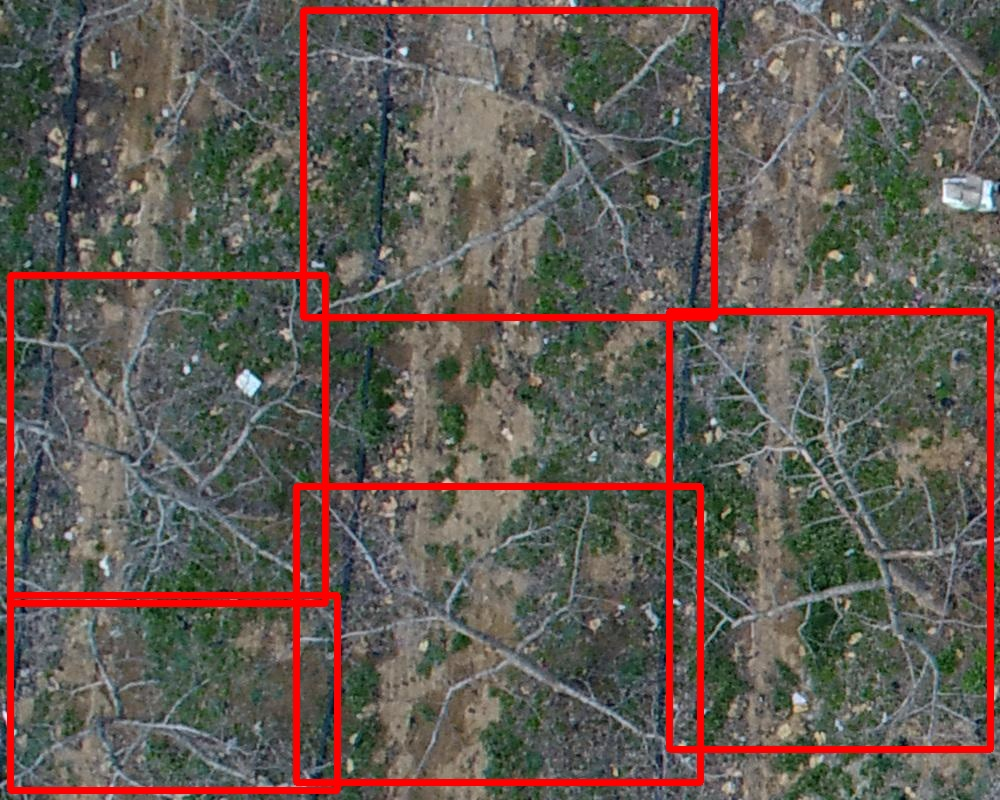apple: (669, 311, 990, 749), (303, 10, 714, 317), (296, 486, 700, 782), (10, 275, 325, 603), (10, 595, 337, 790)
